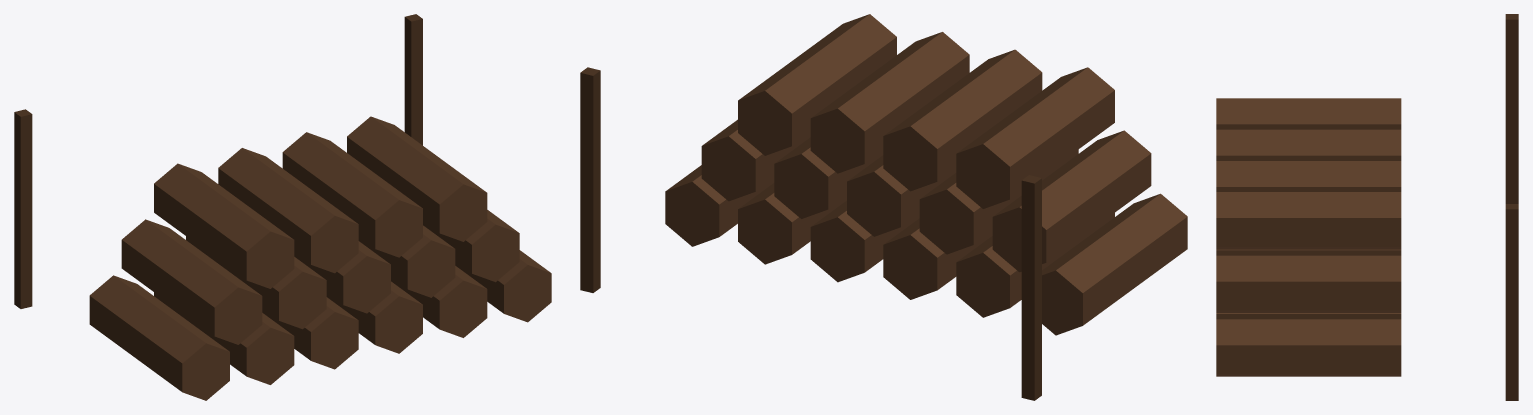
File: prop_firewood.glb
The picture shows the model from 3 angles, left to right: view 1: azimuth 30°, elevation 25°; view 2: azimuth 150°, elevation 25°; view 3: azimuth 270°, elevation 25°; orthographic projection. The views are drawn at different scales.
Visible parts, largest first — view 1: prop_firewood; view 2: prop_firewood; view 3: prop_firewood.
Boxes of the visible parts, x1,y1,x2,y2 form: prop_firewood: (14,14,551,400); prop_firewood: (580,14,1187,400); prop_firewood: (1216,14,1518,400).
Size of the model in its own units: 1.75 by 0.8 by 1.14.
